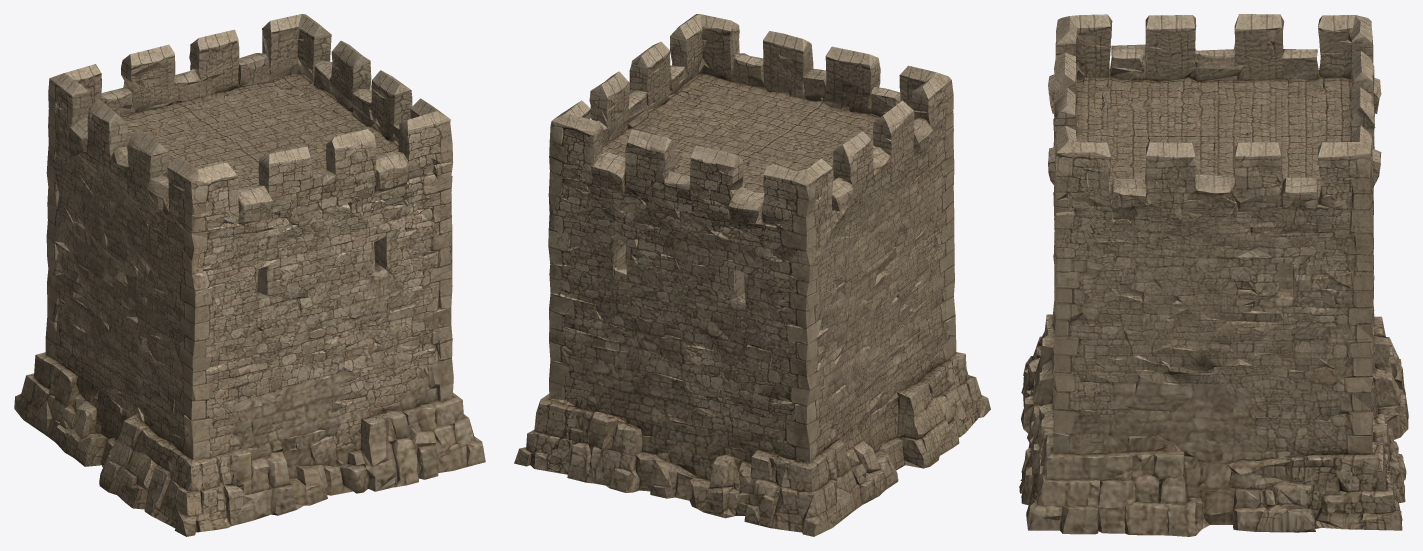
The model's file is keep.glb.
3 renders of one model, left to right at view 1: azimuth 30°, elevation 25°; view 2: azimuth 150°, elevation 25°; view 3: azimuth 270°, elevation 25°, orthographic. The views are drawn at different scales.
Visible parts, largest first — view 1: keep; view 2: keep; view 3: keep.
Boxes of the visible parts, x1,y1,x2,y2 form: keep: (14, 14, 485, 536); keep: (514, 14, 990, 536); keep: (1019, 14, 1408, 536).
Bounding box in the file's own units: 16.81 × 17 × 16.06.
Materials: 1 (1 with a texture image).
